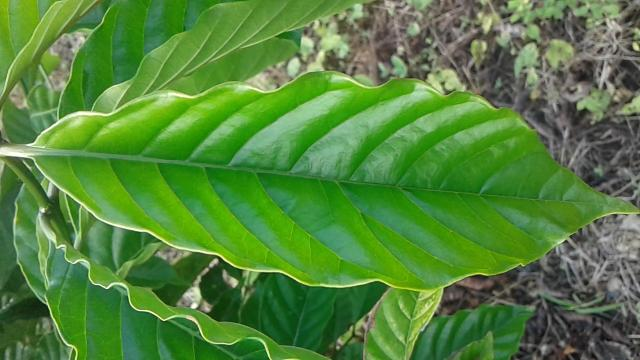healthy: (24, 66, 640, 294)
